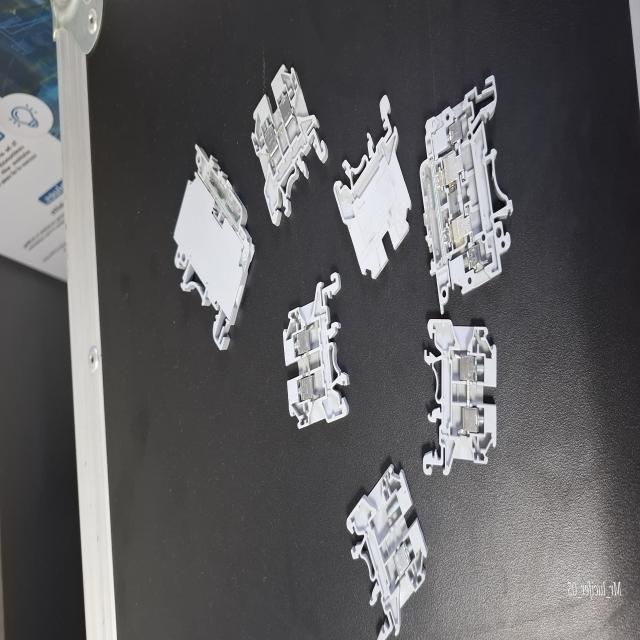Inverted: (334, 86, 424, 294), (334, 95, 411, 279)
Pass: (416, 299, 514, 488), (254, 14, 326, 229), (274, 261, 353, 448)
Reject: (343, 448, 431, 640)
